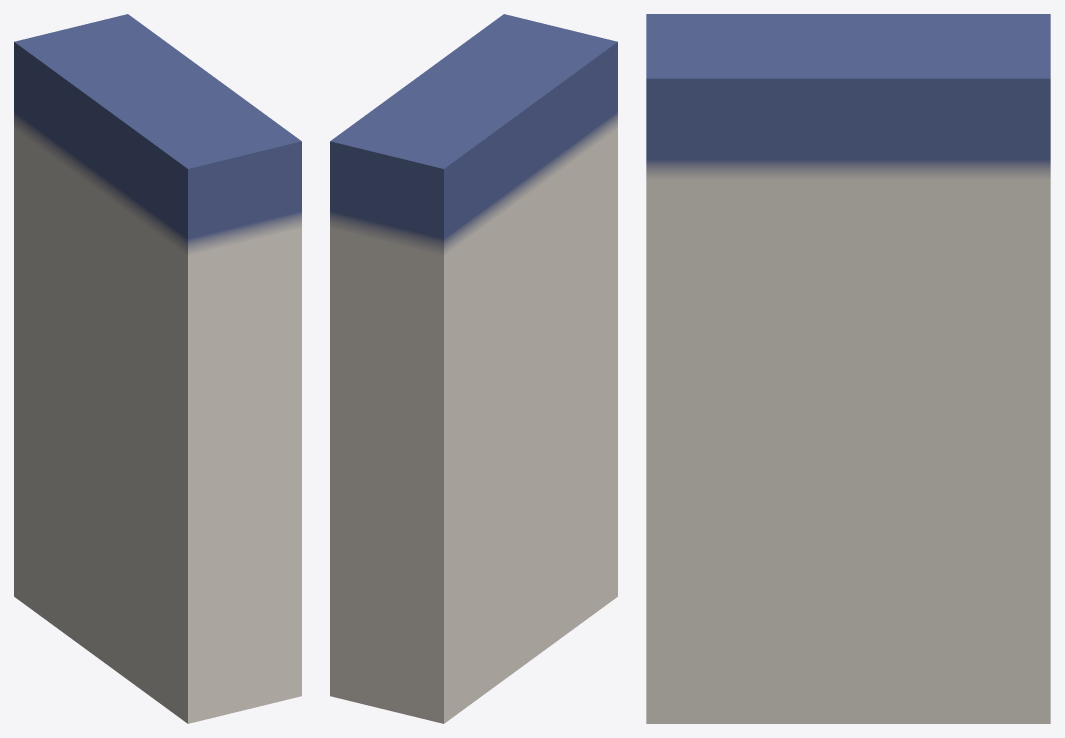
The model's file is Itr_Obj_Book2_06.FBX.
3 views of the same model, side by side, from view 1: azimuth 30°, elevation 25°; view 2: azimuth 150°, elevation 25°; view 3: azimuth 270°, elevation 25° (orthographic). The views are drawn at different scales.
Parts seen in each view (by area): view 1: Itr_Obj_Book2_06; view 2: Itr_Obj_Book2_06; view 3: Itr_Obj_Book2_06.
Boxes of the visible parts, x1,y1,x2,y2 form: Itr_Obj_Book2_06: (14, 14, 301, 723); Itr_Obj_Book2_06: (330, 14, 617, 723); Itr_Obj_Book2_06: (646, 14, 1050, 723).
Size of the model in its own units: 2.14 by 9.98 by 5.67.
